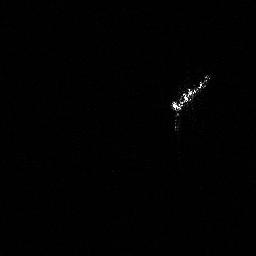ship: (168, 71, 214, 132)
